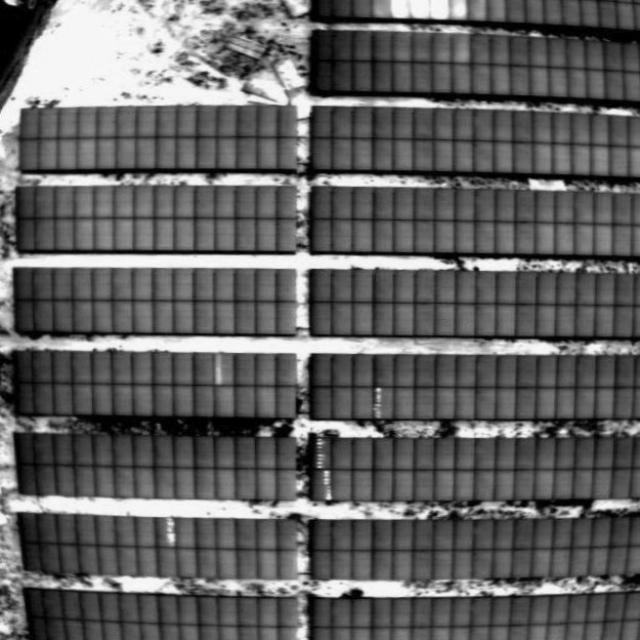Line Fault: (159, 516, 181, 548), (314, 436, 326, 468), (324, 469, 334, 500), (214, 353, 224, 383)
Panel: (310, 183, 640, 258), (310, 269, 640, 340), (307, 104, 640, 172), (306, 353, 639, 417), (11, 350, 297, 419), (12, 267, 297, 336), (11, 433, 299, 500), (314, 33, 640, 92), (7, 513, 297, 579), (16, 186, 296, 253), (315, 439, 636, 497), (310, 521, 640, 577), (19, 105, 299, 170), (310, 598, 640, 639), (21, 590, 294, 639), (373, 384, 381, 419)
